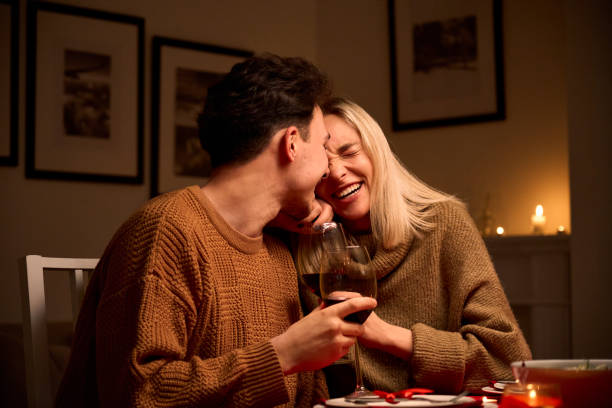without mask: (251, 90, 331, 215), (318, 105, 376, 220)
